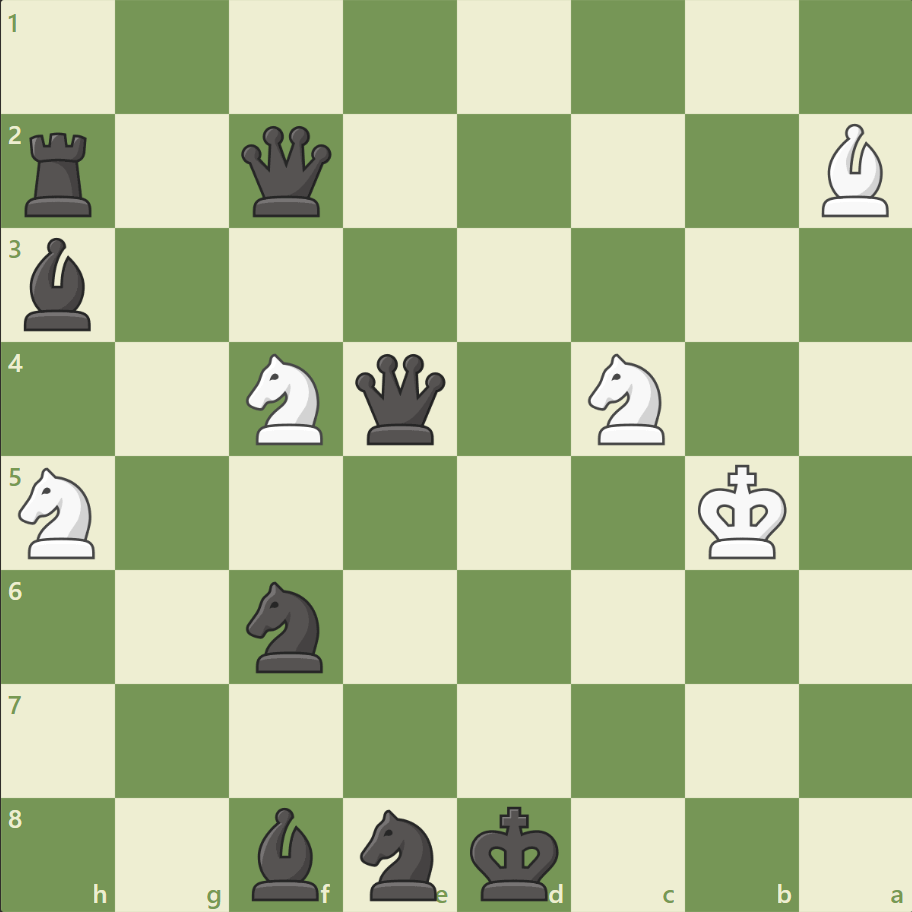B: (812, 120, 896, 222)
K: (692, 458, 792, 566)
N: (11, 461, 108, 564), (579, 348, 676, 450), (238, 348, 335, 450)
b: (244, 801, 328, 904), (17, 233, 101, 336)
k: (465, 798, 565, 906)
n: (351, 802, 449, 904), (238, 575, 335, 677)
q: (351, 349, 450, 449), (237, 122, 336, 222)
r: (19, 125, 102, 222)
